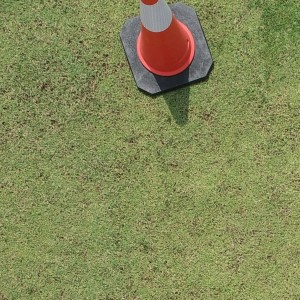traffic cone: (118, 1, 214, 97)
